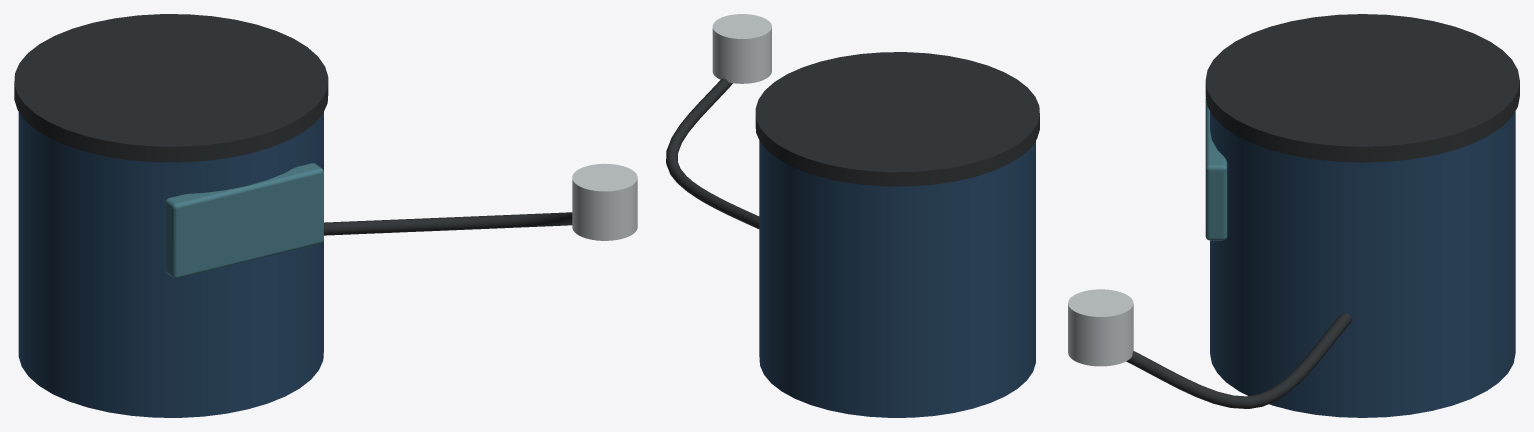
Rendered from rowing-boathouse-and-regatta-course-cox-amplification--c0c8b061__32160.glb.
3 views of the same model, side by side, from view 1: azimuth 30°, elevation 25°; view 2: azimuth 150°, elevation 25°; view 3: azimuth 270°, elevation 25° (orthographic). The views are drawn at different scales.
Parts seen in each view (by area): view 1: cox-amplification-unit; view 2: cox-amplification-unit; view 3: cox-amplification-unit.
Boxes of the visible parts, box(x1,y1,x2,y2) form: cox-amplification-unit: box(14, 14, 637, 417); cox-amplification-unit: box(666, 14, 1039, 417); cox-amplification-unit: box(1068, 14, 1519, 417).
Size of the model in its own units: 0.247 by 0.138 by 0.207.
